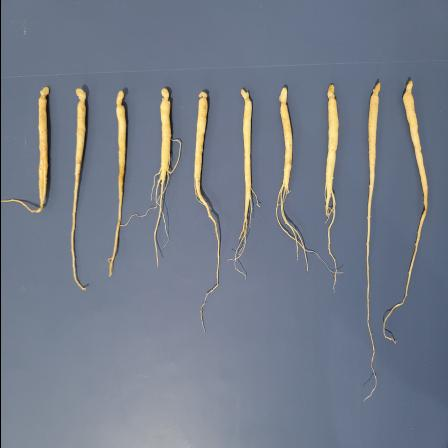Ginseng: (382, 78, 430, 345), (360, 80, 382, 404), (191, 91, 219, 334), (274, 82, 310, 270), (0, 84, 49, 215), (150, 87, 182, 269), (230, 85, 257, 278), (105, 90, 129, 276), (68, 86, 88, 290), (323, 81, 339, 292)
head: (278, 86, 288, 110), (401, 80, 413, 100), (158, 88, 170, 107), (114, 90, 125, 110), (37, 86, 49, 104), (74, 88, 86, 106), (368, 82, 380, 99), (326, 84, 336, 104), (240, 88, 251, 105), (196, 92, 208, 104)
